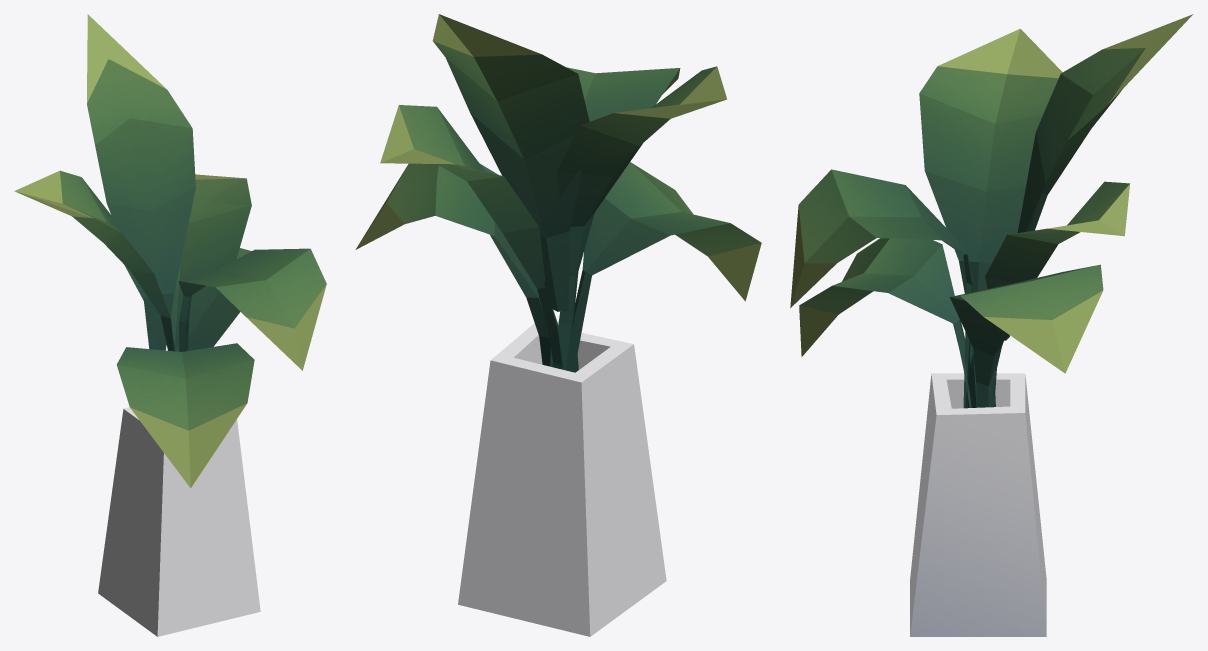
The model's file is MS_PlantA.fbx.
3 renders of one model, left to right at view 1: azimuth 30°, elevation 25°; view 2: azimuth 150°, elevation 25°; view 3: azimuth 270°, elevation 25°, orthographic. The views are drawn at different scales.
Parts seen in each view (by area): view 1: PlantA; view 2: PlantA; view 3: PlantA.
Boxes of the visible parts, x1,y1,x2,y2 form: PlantA: (14, 14, 326, 636); PlantA: (355, 14, 761, 636); PlantA: (790, 14, 1193, 636).
Bounding box in the file's own units: 290 × 533 × 327.
